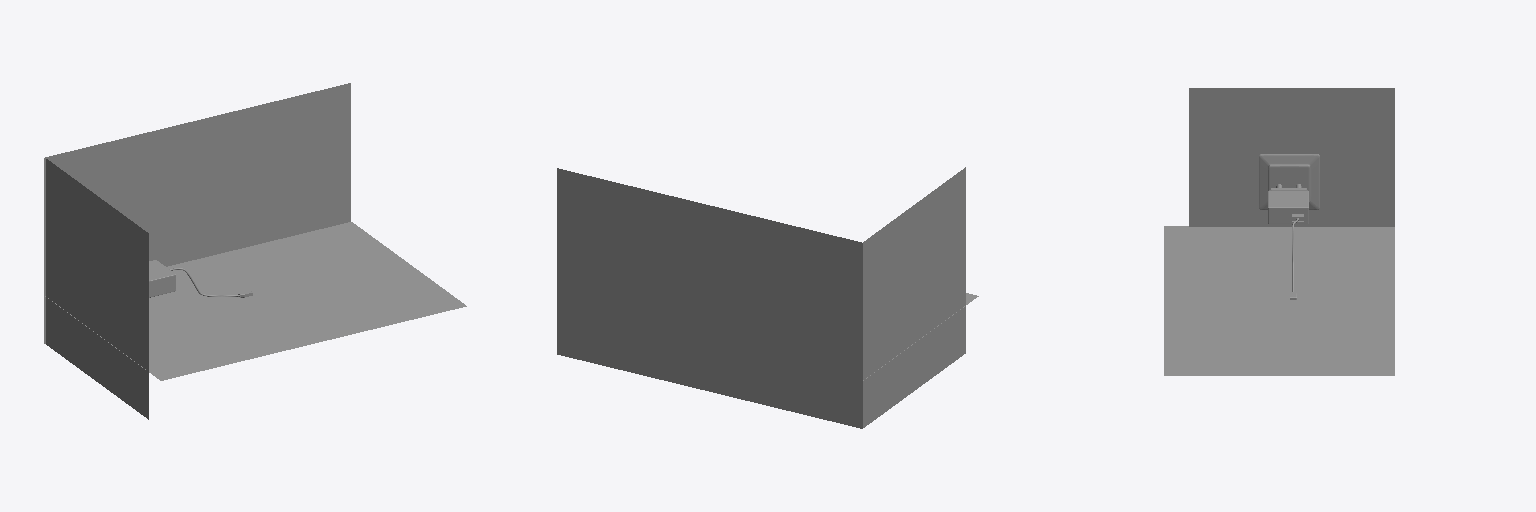
File: Charger.obj
The picture shows the model from 3 angles: view 1: azimuth 30°, elevation 25°; view 2: azimuth 150°, elevation 25°; view 3: azimuth 270°, elevation 25°; orthographic projection.
Visible parts, largest first — view 1: Wall.001_Plane.003, Floor_Plane.002, Wall_Plane.001, Charger_Cube; view 2: Wall.001_Plane.003, Wall_Plane.001; view 3: Floor_Plane.002, Wall_Plane.001, Electrical_Socket_Cube.006, Charger_Cube.
Part boxes in pixels (x1,y1,x2,y2): Wall.001_Plane.003: (44, 83, 350, 343); Floor_Plane.002: (45, 222, 466, 380); Wall_Plane.001: (46, 159, 148, 419); Charger_Cube: (149, 260, 175, 297); Wall.001_Plane.003: (557, 168, 862, 428); Wall_Plane.001: (863, 167, 965, 427); Floor_Plane.002: (1164, 226, 1394, 375); Wall_Plane.001: (1189, 88, 1394, 226); Electrical_Socket_Cube.006: (1259, 154, 1319, 209); Charger_Cube: (1268, 188, 1308, 223).
Size of the model in its own units: 17.22 by 10 by 11.31.